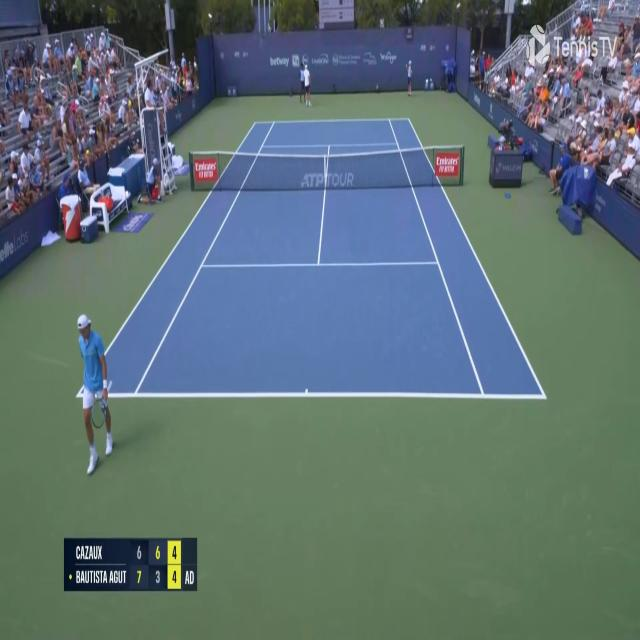tennis-player: (73, 306, 113, 482), (303, 61, 313, 108)
